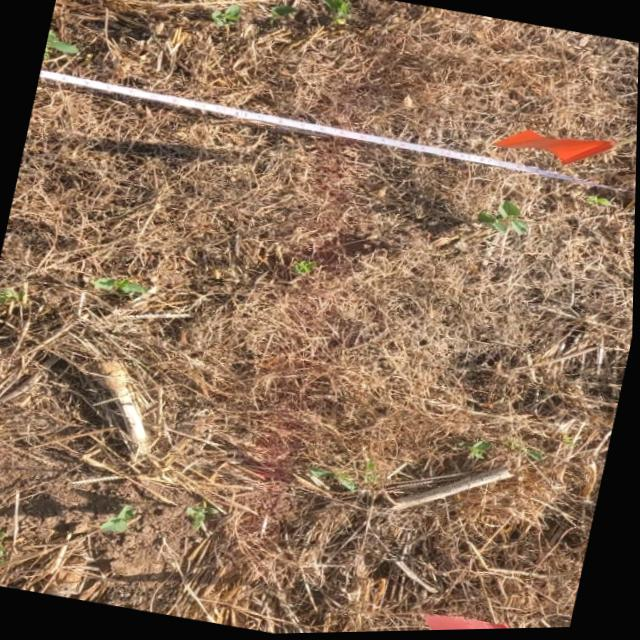soy_plant: (297, 460, 385, 496), (480, 202, 529, 236), (93, 276, 148, 296), (103, 505, 139, 532), (188, 501, 220, 531), (506, 441, 545, 462), (46, 30, 79, 54), (459, 440, 495, 462), (325, 0, 351, 25), (211, 5, 241, 26), (388, 463, 411, 482), (271, 5, 297, 19), (294, 260, 318, 275), (0, 288, 24, 302), (0, 531, 8, 565), (589, 198, 613, 209)
